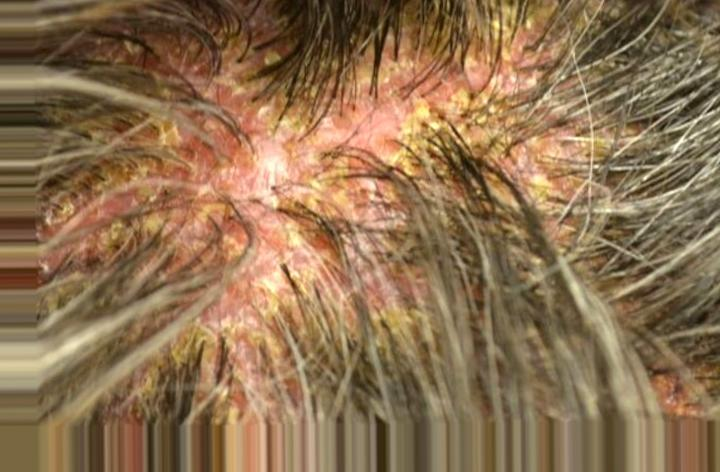Folliculitis: (190, 126, 426, 318)
